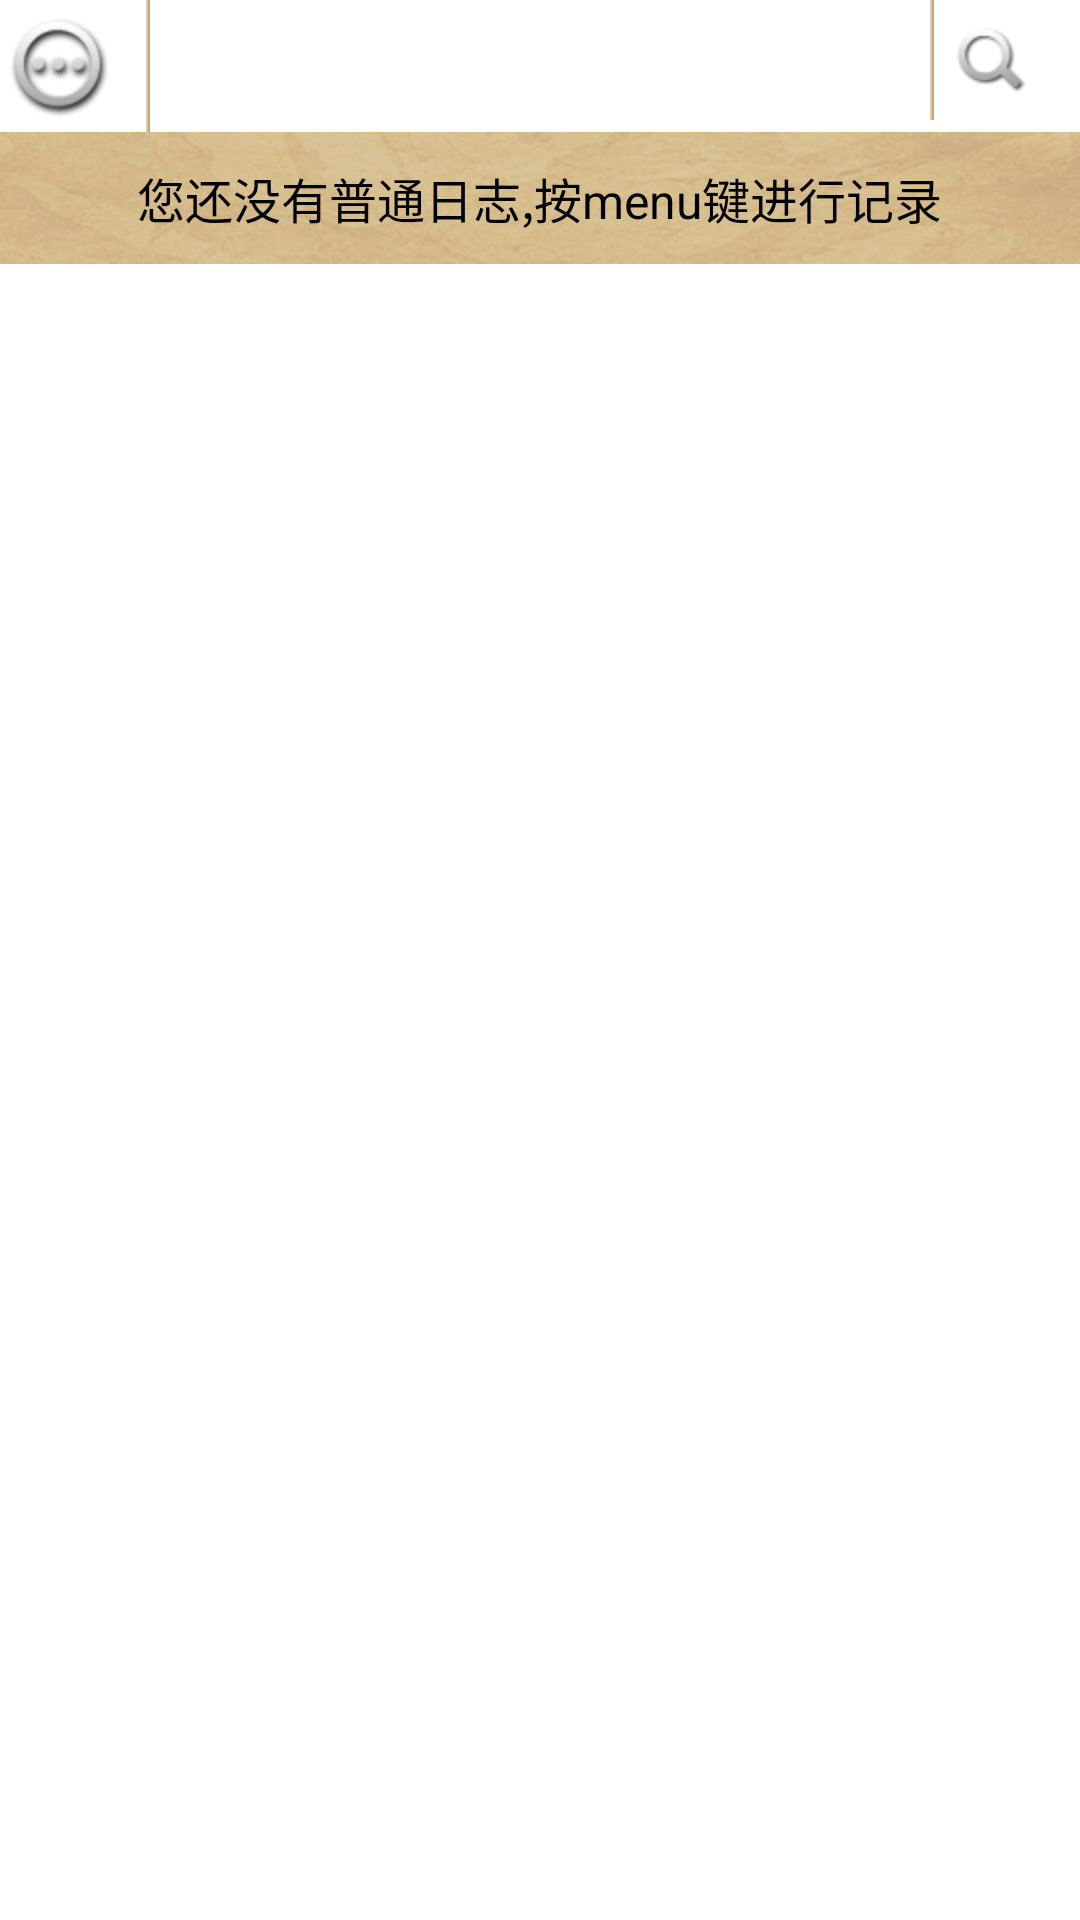

Locate icon controls on the screen. Image size 1080px×1920px, boxes as bbox(x1, y1, x2, y2).
more: bbox(13, 26, 106, 115)
